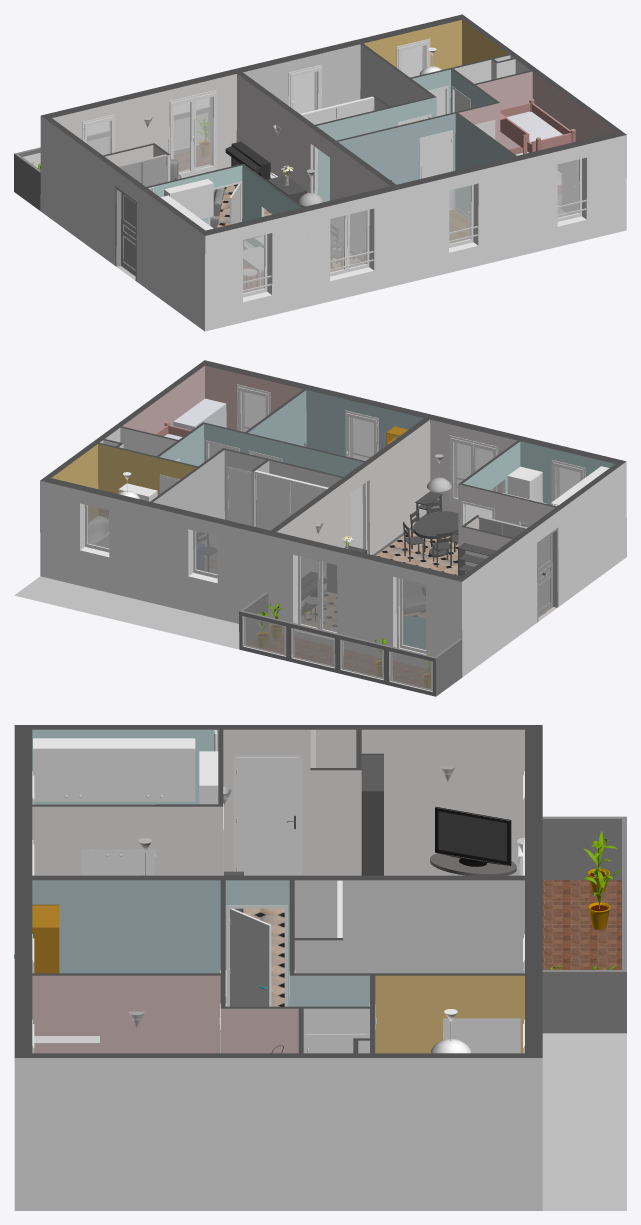
The picture shows the model from 3 angles, top to bottom: view 1: azimuth 30°, elevation 25°; view 2: azimuth 150°, elevation 25°; view 3: azimuth 270°, elevation 25°; orthographic projection. The views are drawn at different scales.
Parts seen in each view (by area): view 1: Object_56, Object_65, Object_59, Object_44, Object_31, Object_32, Object_70, Object_63, Object_57, Object_72, Object_54, Object_60 (+12 smaller); view 2: Object_56, Object_65, Object_44, Object_59, Object_31, Object_32, Object_9, Object_63, Object_70, Object_62, Object_57, Object_54 (+14 smaller); view 3: Object_56, Object_65, Object_59, Object_32, Object_70, Object_57, Object_63, Object_9, Object_62, Object_54, Object_53, Object_72 (+13 smaller).
Boxes of the visible parts, x1=… form: Object_56: x1=40, y1=55, x2=626, y2=331; Object_65: x1=52, y1=74, x2=390, y2=258; Object_59: x1=41, y1=14, x2=626, y2=235; Object_44: x1=23, y1=45, x2=579, y2=293; Object_31: x1=23, y1=38, x2=588, y2=304; Object_32: x1=84, y1=41, x2=581, y2=297; Object_70: x1=243, y1=44, x2=431, y2=110; Object_63: x1=338, y1=113, x2=513, y2=218; Object_57: x1=459, y1=71, x2=615, y2=172; Object_72: x1=316, y1=69, x2=495, y2=202; Object_54: x1=363, y1=20, x2=508, y2=69; Object_60: x1=148, y1=165, x2=299, y2=273; Object_56: x1=40, y1=427, x2=626, y2=677; Object_65: x1=277, y1=419, x2=554, y2=605; Object_44: x1=87, y1=391, x2=580, y2=689; Object_59: x1=40, y1=360, x2=625, y2=581; Object_31: x1=78, y1=384, x2=585, y2=691; Object_32: x1=84, y1=387, x2=600, y2=653; Object_9: x1=14, y1=576, x2=557, y2=649; Object_63: x1=248, y1=390, x2=423, y2=455; Object_70: x1=153, y1=450, x2=341, y2=556; Object_62: x1=239, y1=592, x2=462, y2=696; Object_57: x1=122, y1=365, x2=303, y2=433; Object_54: x1=52, y1=444, x2=196, y2=521; Object_56: x1=14, y1=1008, x2=542, y2=1210; Object_65: x1=32, y1=729, x2=524, y2=875; Object_59: x1=14, y1=725, x2=542, y2=1057; Object_32: x1=33, y1=749, x2=523, y2=1053; Object_70: x1=294, y1=880, x2=524, y2=973; Object_57: x1=32, y1=975, x2=298, y2=1053; Object_63: x1=32, y1=880, x2=220, y2=973; Object_9: x1=542, y1=1033, x2=626, y2=1210; Object_62: x1=542, y1=816, x2=626, y2=1033; Object_54: x1=375, y1=975, x2=524, y2=1053; Object_53: x1=542, y1=880, x2=621, y2=969; Object_72: x1=225, y1=880, x2=369, y2=1006.
Bounding box in the file's own units: 11.05 × 2.43 × 8.66.
Materials: 76 (8 with a texture image).
